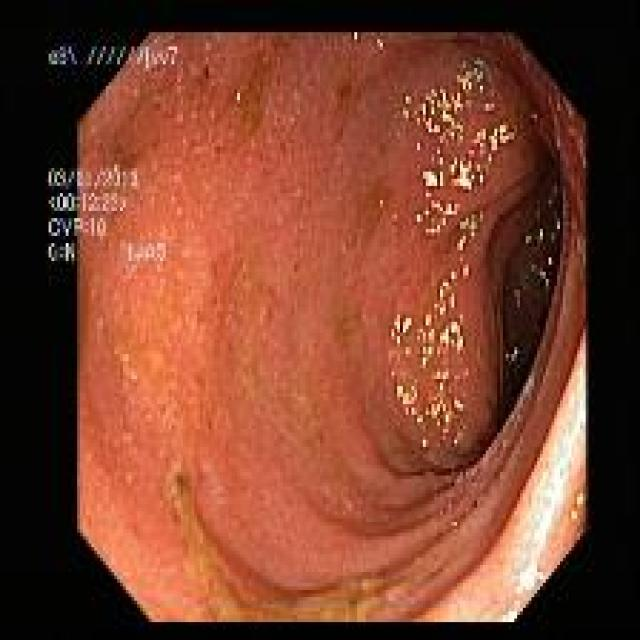ulcerative-colitis: (74, 33, 586, 622)
